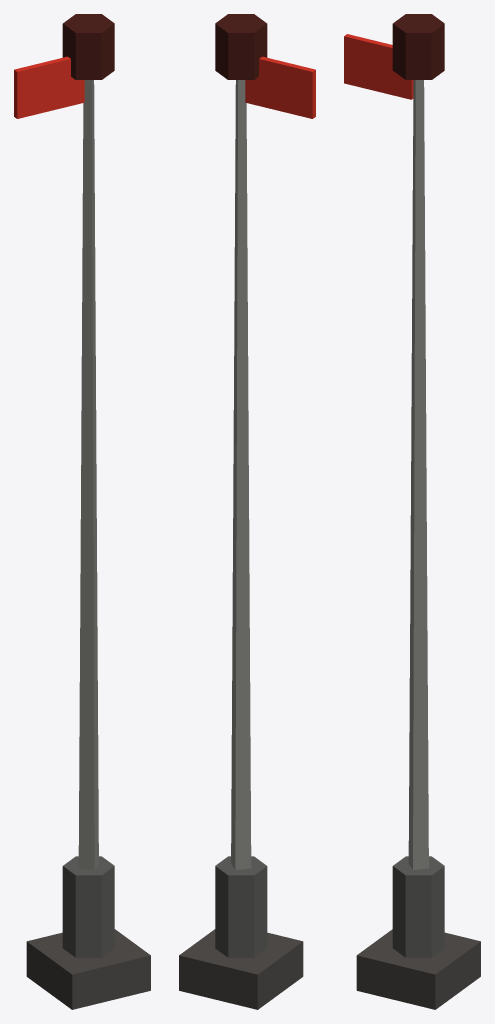
The model's file is antenna.glb.
The picture shows the model from 3 angles, left to right: view 1: azimuth 30°, elevation 25°; view 2: azimuth 150°, elevation 25°; view 3: azimuth 330°, elevation 25°; orthographic projection.
Parts seen in each view (by area): view 1: antenna; view 2: antenna; view 3: antenna.
Part boxes in pixels (left/top/right/bottom): antenna: left=14, top=14, right=150, bottom=1009; antenna: left=179, top=14, right=315, bottom=1009; antenna: left=344, top=14, right=480, bottom=1009.
Size of the model in its own units: 0.2 by 1.63 by 0.14.
